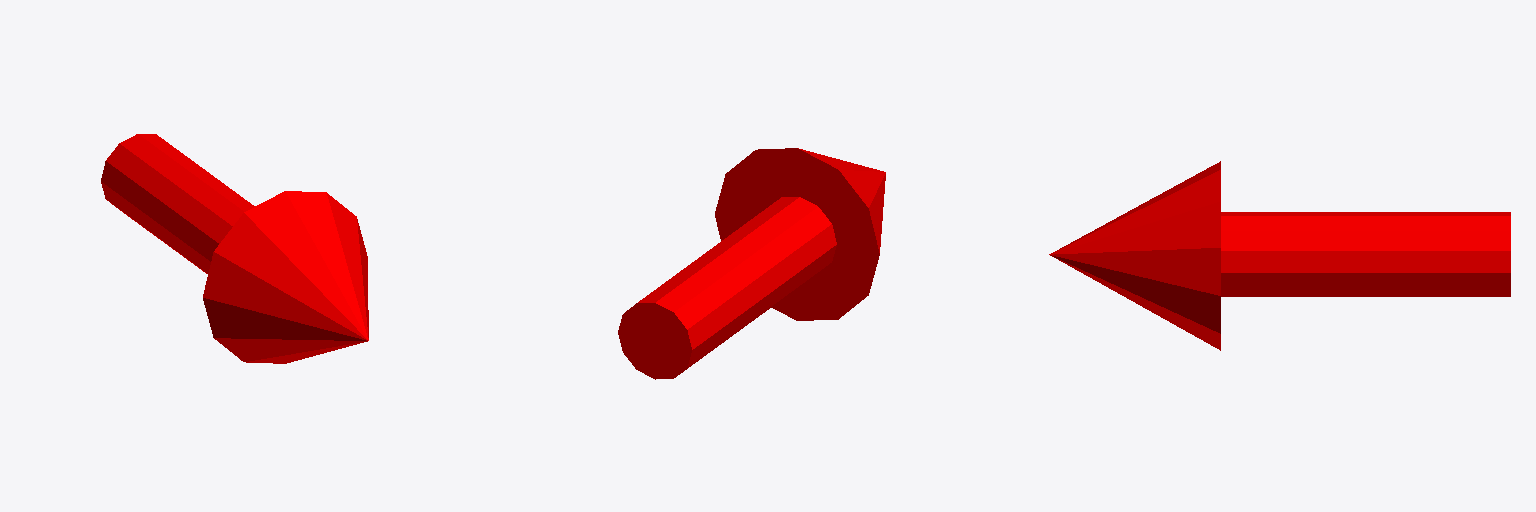
The model's file is arrow.obj.
The picture shows the model from 3 angles: view 1: azimuth 30°, elevation 25°; view 2: azimuth 150°, elevation 25°; view 3: azimuth 270°, elevation 25°; orthographic projection.
Parts seen in each view (by area): view 1: Mesh01; view 2: Mesh01; view 3: Mesh01.
Boxes of the visible parts, x1=… form: Mesh01: x1=101, y1=134, x2=368, y2=363; Mesh01: x1=618, y1=148, x2=885, y2=379; Mesh01: x1=1049, y1=161, x2=1510, y2=350.
Bounding box in the file's own units: 0.775 × 0.775 × 1.88.